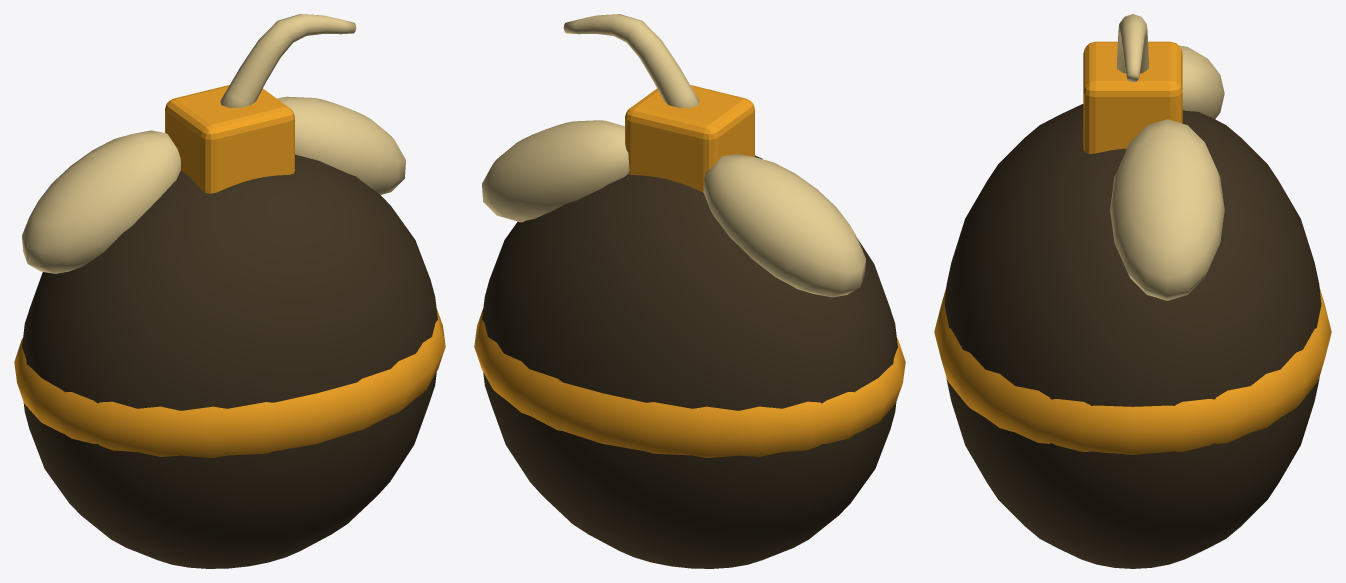
Rendered from pickup_bomb.glb.
3 renders of one model, left to right at view 1: azimuth 30°, elevation 25°; view 2: azimuth 150°, elevation 25°; view 3: azimuth 270°, elevation 25°, orthographic. The views are drawn at different scales.
Parts seen in each view (by area): view 1: PickupGeometryGeometry; view 2: PickupGeometryGeometry; view 3: PickupGeometryGeometry.
Boxes of the visible parts, box(x1,y1,x2,y2) form: PickupGeometryGeometry: box(14, 14, 445, 568); PickupGeometryGeometry: box(474, 14, 905, 568); PickupGeometryGeometry: box(934, 14, 1331, 568).
Size of the model in its own units: 0.636 by 0.8099 by 0.52.
